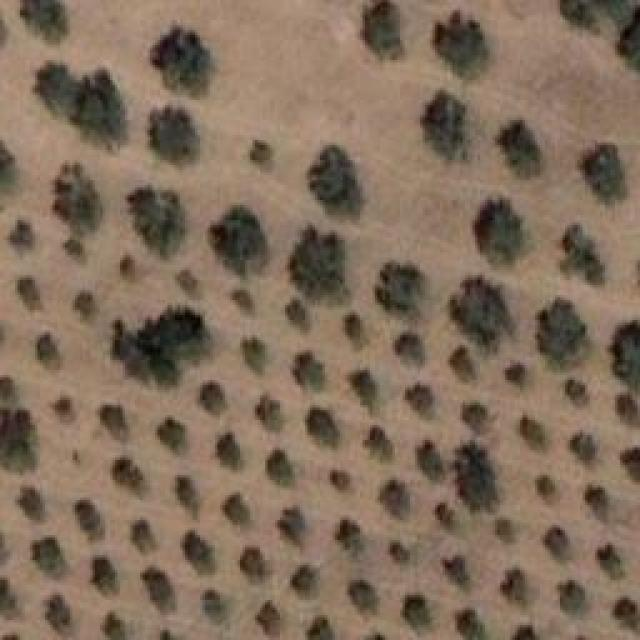Tree: (35, 63, 126, 150), (113, 307, 207, 387), (450, 278, 513, 351), (210, 205, 270, 276), (153, 27, 213, 97), (127, 188, 185, 259), (290, 227, 344, 302), (310, 145, 365, 218), (433, 10, 489, 78), (538, 297, 592, 367), (53, 165, 103, 237), (473, 200, 524, 265), (423, 90, 468, 160), (455, 442, 500, 512), (580, 145, 628, 205), (150, 110, 200, 165), (377, 262, 425, 317), (498, 120, 543, 177), (560, 225, 601, 286), (363, 0, 404, 58), (0, 408, 36, 474), (560, 0, 633, 31), (610, 320, 640, 392), (23, 0, 69, 42), (143, 567, 177, 612), (617, 5, 640, 70), (183, 530, 216, 575), (113, 458, 148, 496), (33, 540, 67, 578), (310, 408, 341, 448), (380, 478, 411, 518), (295, 352, 325, 392), (240, 548, 271, 585), (158, 418, 188, 454), (353, 370, 378, 412), (365, 425, 394, 461), (277, 508, 305, 545), (403, 595, 432, 630), (450, 348, 478, 384), (418, 440, 443, 480), (255, 395, 281, 433), (178, 478, 201, 520), (335, 518, 361, 555), (45, 595, 71, 632), (78, 500, 102, 540), (558, 580, 587, 613), (570, 433, 599, 465), (93, 558, 118, 595), (222, 493, 250, 526), (543, 525, 569, 560), (500, 567, 526, 602), (200, 382, 226, 417), (0, 140, 17, 193), (455, 610, 485, 640), (218, 433, 242, 470), (268, 450, 292, 487), (405, 384, 431, 418), (520, 415, 545, 450), (255, 602, 280, 637), (18, 487, 43, 522), (133, 520, 158, 555), (585, 485, 609, 521), (598, 543, 622, 579), (103, 405, 127, 441), (10, 220, 36, 253), (203, 590, 227, 625), (395, 333, 421, 365), (613, 598, 638, 631), (345, 314, 369, 348), (285, 297, 308, 332), (50, 390, 73, 424), (290, 565, 316, 595), (38, 333, 59, 370), (245, 338, 266, 374), (73, 290, 97, 321), (620, 447, 640, 482), (350, 583, 375, 611), (18, 278, 39, 311), (250, 140, 273, 170), (617, 395, 640, 425), (178, 270, 201, 300), (0, 578, 16, 619), (463, 405, 487, 432), (443, 558, 465, 587), (103, 613, 126, 640), (308, 618, 334, 640), (435, 503, 456, 530), (565, 380, 585, 407), (63, 237, 84, 262), (505, 363, 526, 386), (535, 475, 556, 498), (495, 518, 513, 544), (233, 290, 254, 312), (0, 378, 16, 406), (330, 470, 350, 492), (512, 625, 540, 640), (393, 543, 412, 564), (120, 255, 134, 282)
